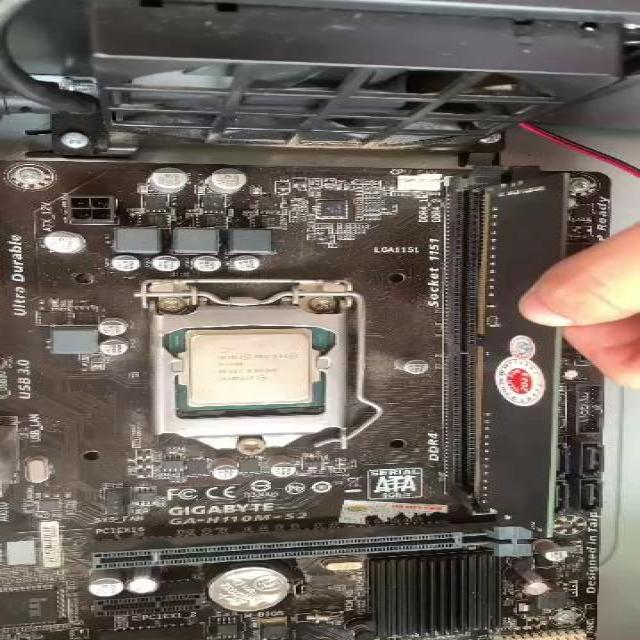CPU: (171, 325, 330, 413)
Mainboard: (0, 154, 613, 640)
RAM: (474, 166, 569, 540)
